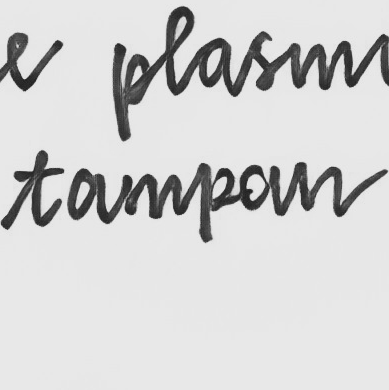a: (66, 165, 110, 223), (238, 163, 285, 217)
m: (119, 171, 184, 220)
n: (292, 158, 344, 217)
p: (192, 161, 237, 244)
t: (12, 148, 65, 229)
